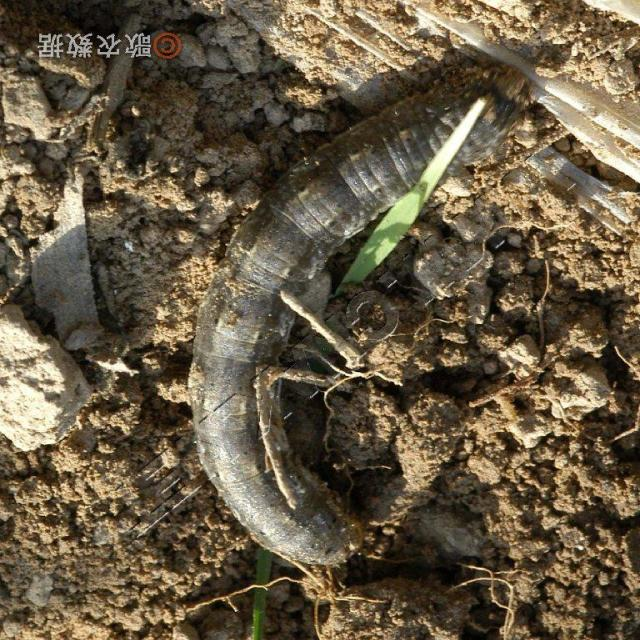black cutworm: (162, 55, 523, 581)
